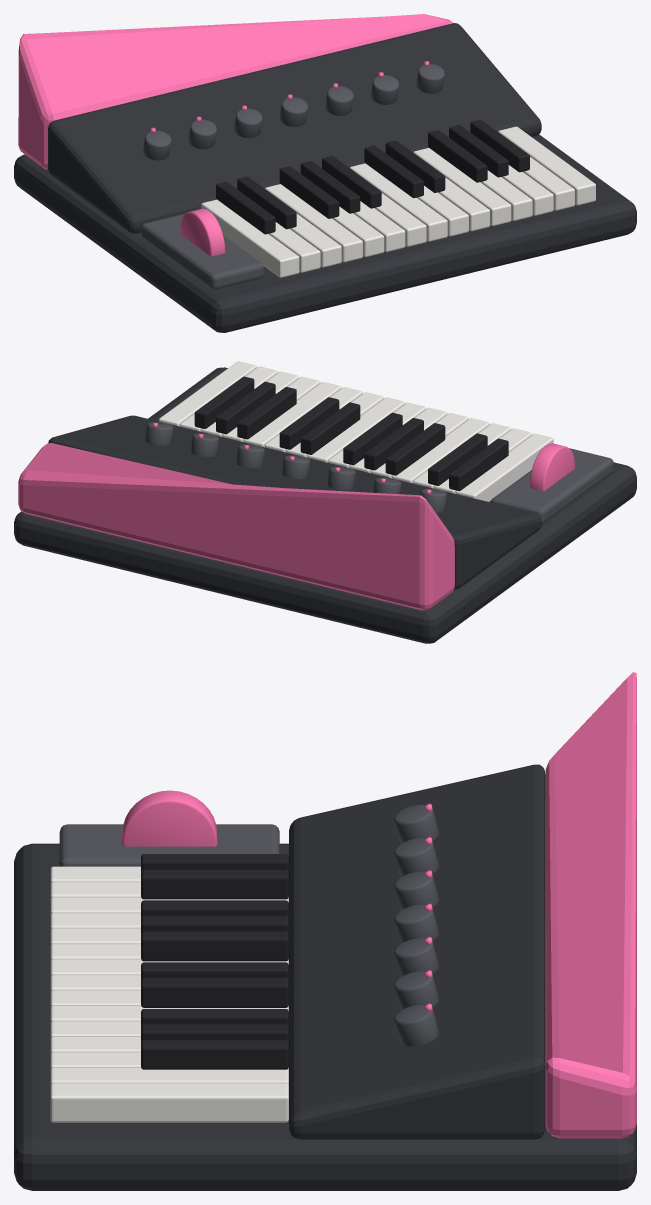
The model's file is Comet.glb.
3 renders of one model, top to bottom at view 1: azimuth 30°, elevation 25°; view 2: azimuth 150°, elevation 25°; view 3: azimuth 270°, elevation 25°, orthographic. The views are drawn at different scales.
Visible parts, largest first — view 1: Comet_Top, Comet_Base, Comet_Tail, Comet_WheelWell, Comet_W0, Comet_W14, Comet_W3, Comet_W7, Comet_W10, Comet_Wheel, Comet_B3, Comet_B0 (+25 smaller); view 2: Comet_Tail, Comet_Base, Comet_Top, Comet_WheelWell, Comet_W0, Comet_W14, Comet_W10, Comet_W7, Comet_W3, Comet_Wheel, Comet_B3, Comet_B7 (+25 smaller); view 3: Comet_Top, Comet_Base, Comet_Tail, Comet_W14, Comet_WheelWell, Comet_B1, Comet_B5, Comet_Wheel, Comet_B8, Comet_B12, Comet_W13, Comet_B11 (+25 smaller).
Boxes of the visible parts, box(x1,y1,x2,y2) form: Comet_Top: box(48, 23, 541, 233); Comet_Base: box(14, 134, 636, 332); Comet_Tail: box(18, 14, 453, 169); Comet_WheelWell: box(141, 213, 263, 289); Comet_W0: box(201, 199, 299, 277); Comet_W14: box(498, 126, 595, 205); Comet_W3: box(265, 184, 362, 262); Comet_W7: box(350, 163, 447, 241); Comet_W10: box(413, 148, 511, 225); Comet_Wheel: box(180, 208, 225, 256); Comet_B3: box(279, 166, 339, 218); Comet_B0: box(216, 182, 275, 234); Comet_Tail: box(18, 443, 454, 610); Comet_Base: box(14, 367, 636, 643); Comet_Top: box(48, 415, 541, 589); Comet_WheelWell: box(491, 448, 613, 523); Comet_W0: box(455, 433, 553, 501); Comet_W14: box(159, 361, 256, 426); Comet_W10: box(243, 382, 341, 447); Comet_W7: box(307, 397, 405, 462); Comet_W3: box(392, 418, 489, 483); Comet_Wheel: box(529, 443, 574, 490); Comet_B3: box(385, 423, 445, 475); Comet_B7: box(300, 402, 360, 454); Comet_Top: box(289, 764, 545, 1139); Comet_Base: box(14, 843, 636, 1190); Comet_Tail: box(545, 672, 636, 1138); Comet_W14: box(50, 1083, 288, 1122); Comet_WheelWell: box(59, 824, 279, 866); Comet_B1: box(141, 869, 288, 899); Comet_B5: box(141, 931, 288, 961); Comet_Wheel: box(122, 790, 217, 846); Comet_B8: box(141, 978, 288, 1007); Comet_B12: box(141, 1040, 288, 1069); Comet_W13: box(50, 1068, 288, 1085); Comet_B11: box(141, 1024, 288, 1042).
Size of the model in its own units: 0.4 by 0.1357 by 0.34.
